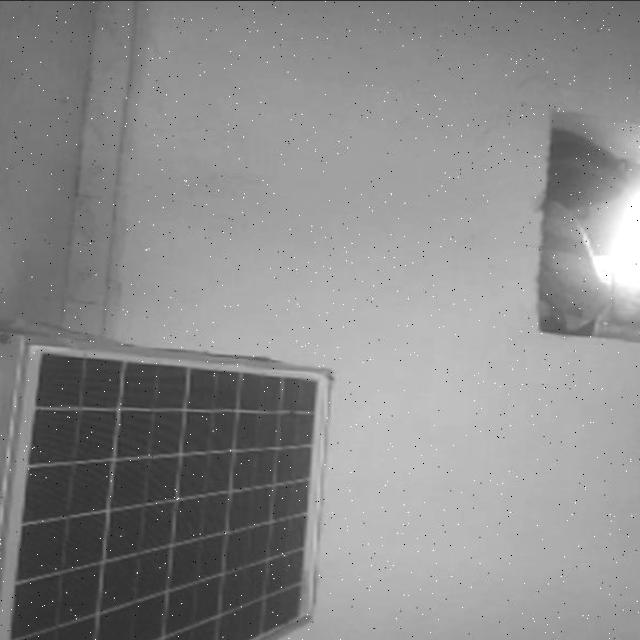Normal Solar Panel: (4, 346, 332, 640)
